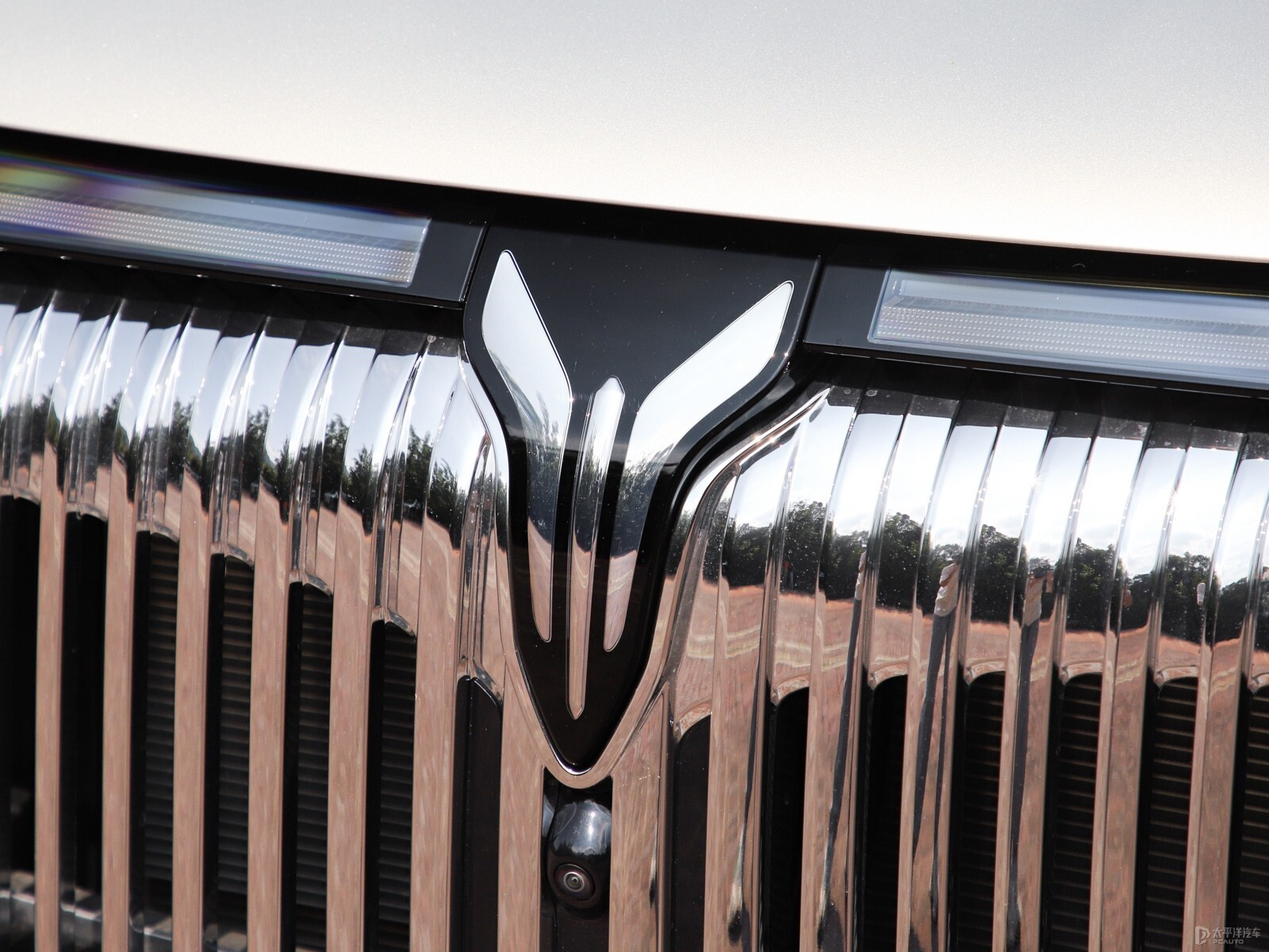VOYAH: (484, 248, 794, 716)
